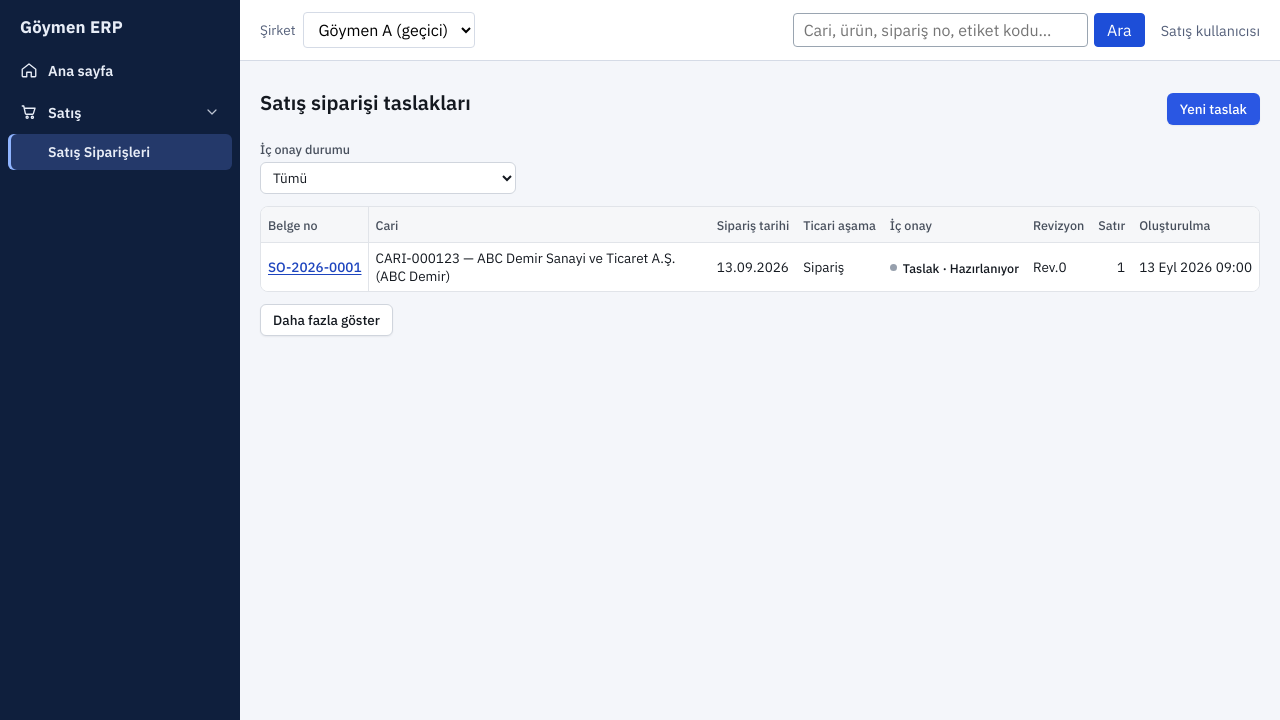
S-02 list › a failed next page keeps the rows shown and retries the SAME cursor only when asked
Click the button "Daha fazla göster".
click(326, 320)  # box [260, 304, 393, 336]
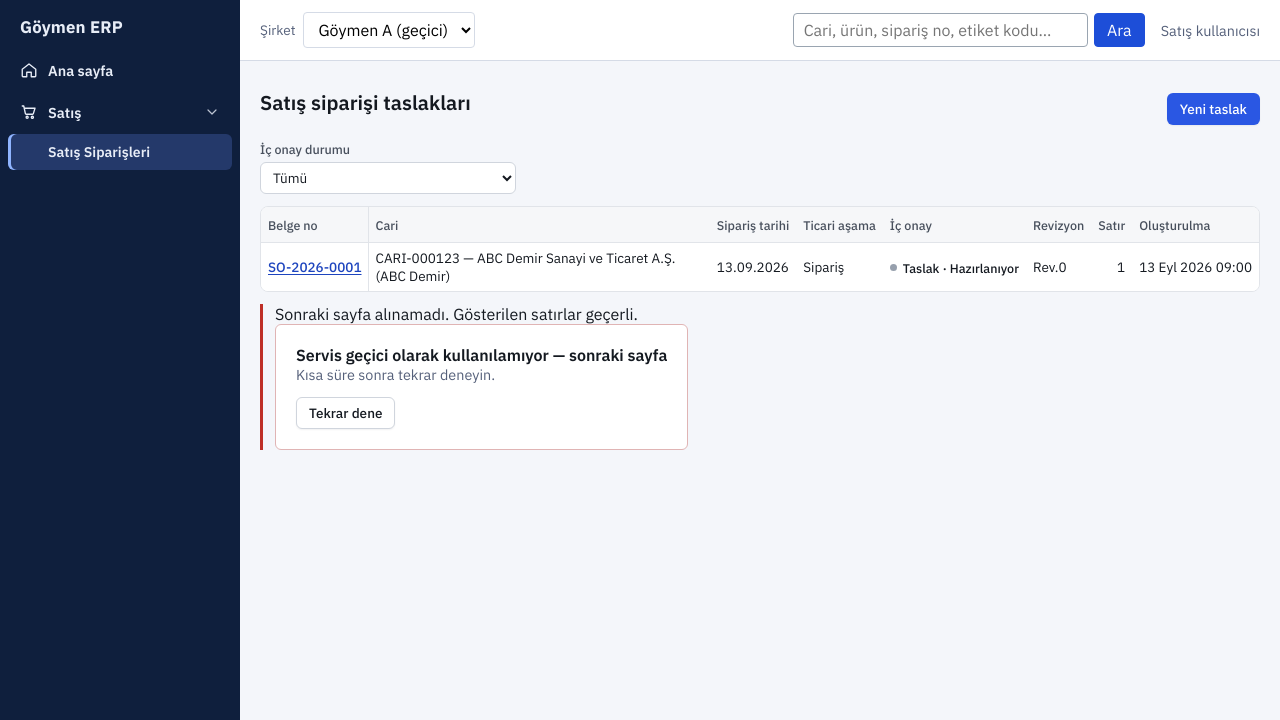
Expected: the link "SO-2026-0001" is shown, [268, 258, 362, 276]
Result: the text "Sonraki sayfa alınamadı. Gösterilen satırlar geçerli." is shown at [275, 304, 688, 324]
Click the button "Tekrar dene".
click(346, 413)  # box [296, 397, 396, 429]
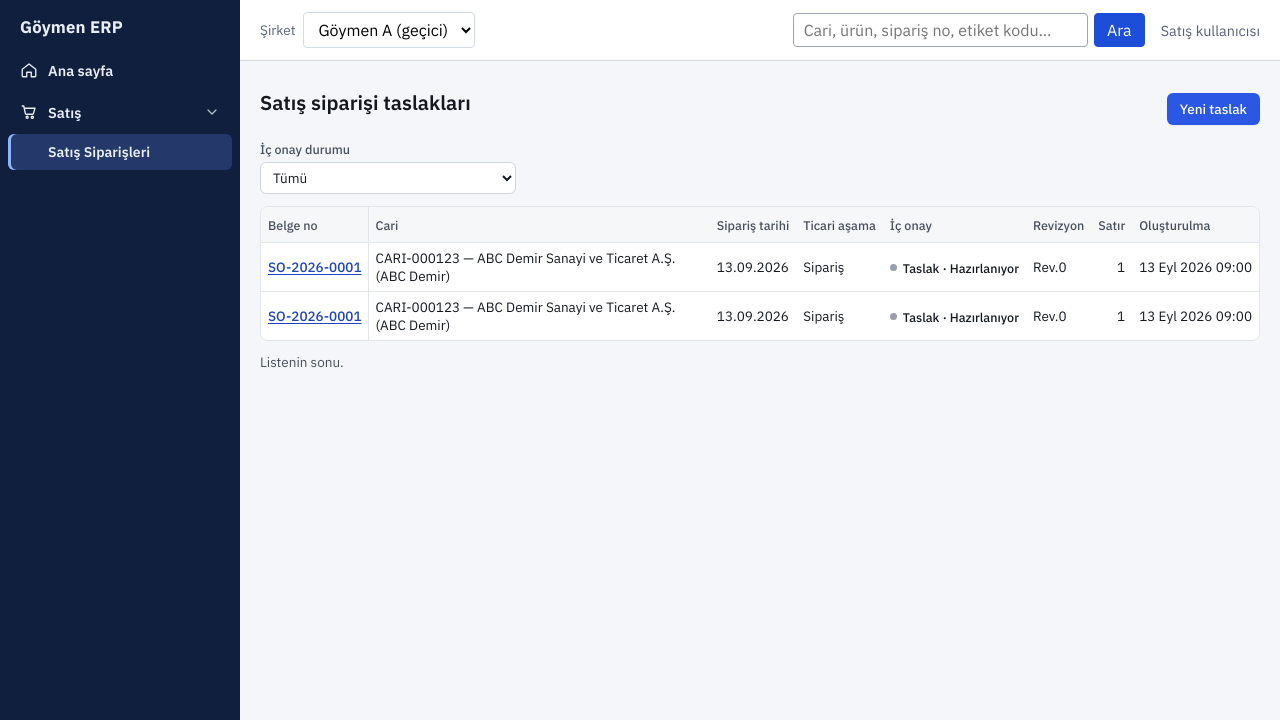
Result: the text "Listenin sonu." is shown at [260, 353, 344, 371]
